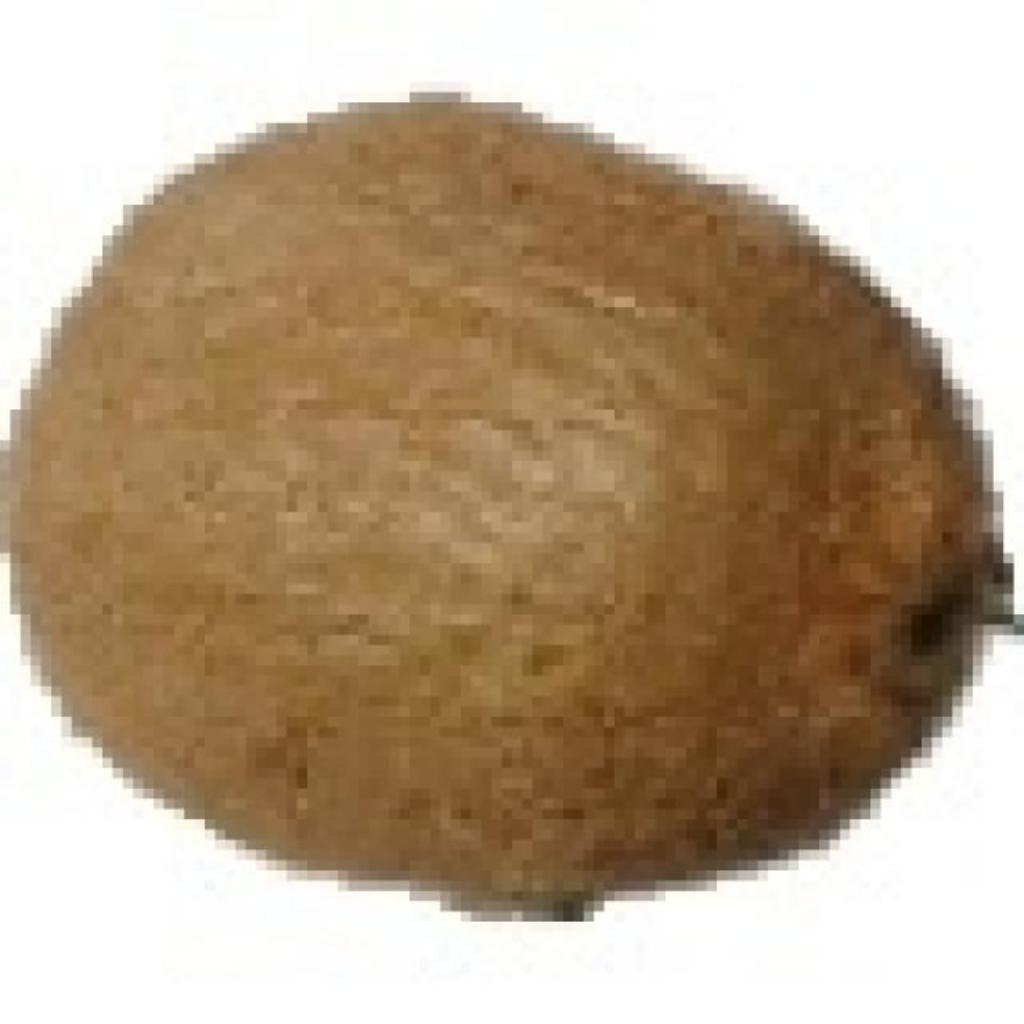kiwi: (0, 82, 983, 891)
